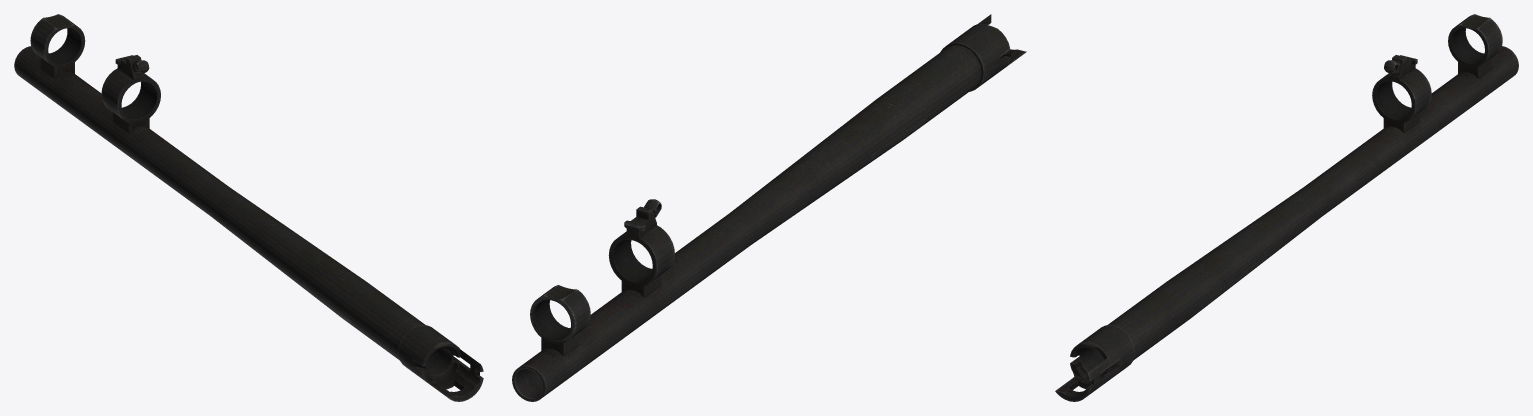
3 renders of one model, left to right at view 1: azimuth 30°, elevation 25°; view 2: azimuth 150°, elevation 25°; view 3: azimuth 330°, elevation 25°, orthographic. The views are drawn at different scales.
Parts seen in each view (by area): view 1: TW_5e87071478f43e51ca2de5e1_PZ_Import; view 2: TW_5e87071478f43e51ca2de5e1_PZ_Import; view 3: TW_5e87071478f43e51ca2de5e1_PZ_Import.
Boxes of the visible parts, bbox=[...] form: TW_5e87071478f43e51ca2de5e1_PZ_Import: bbox=[14, 14, 483, 401]; TW_5e87071478f43e51ca2de5e1_PZ_Import: bbox=[512, 14, 1026, 401]; TW_5e87071478f43e51ca2de5e1_PZ_Import: bbox=[1055, 14, 1518, 401].
Size of the model in its own units: 0.0189 by 0.3278 by 0.0439.
1 material, 1 textured.
